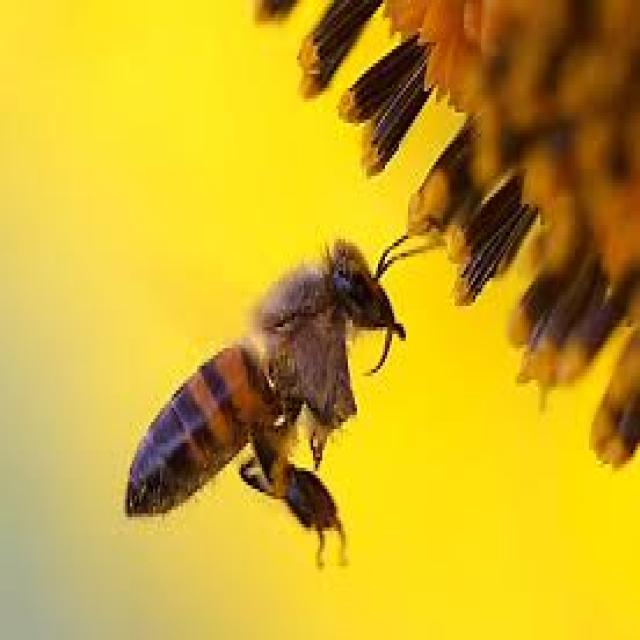Bees: (123, 229, 443, 571)
